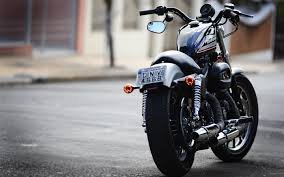motor: (134, 6, 261, 170)
